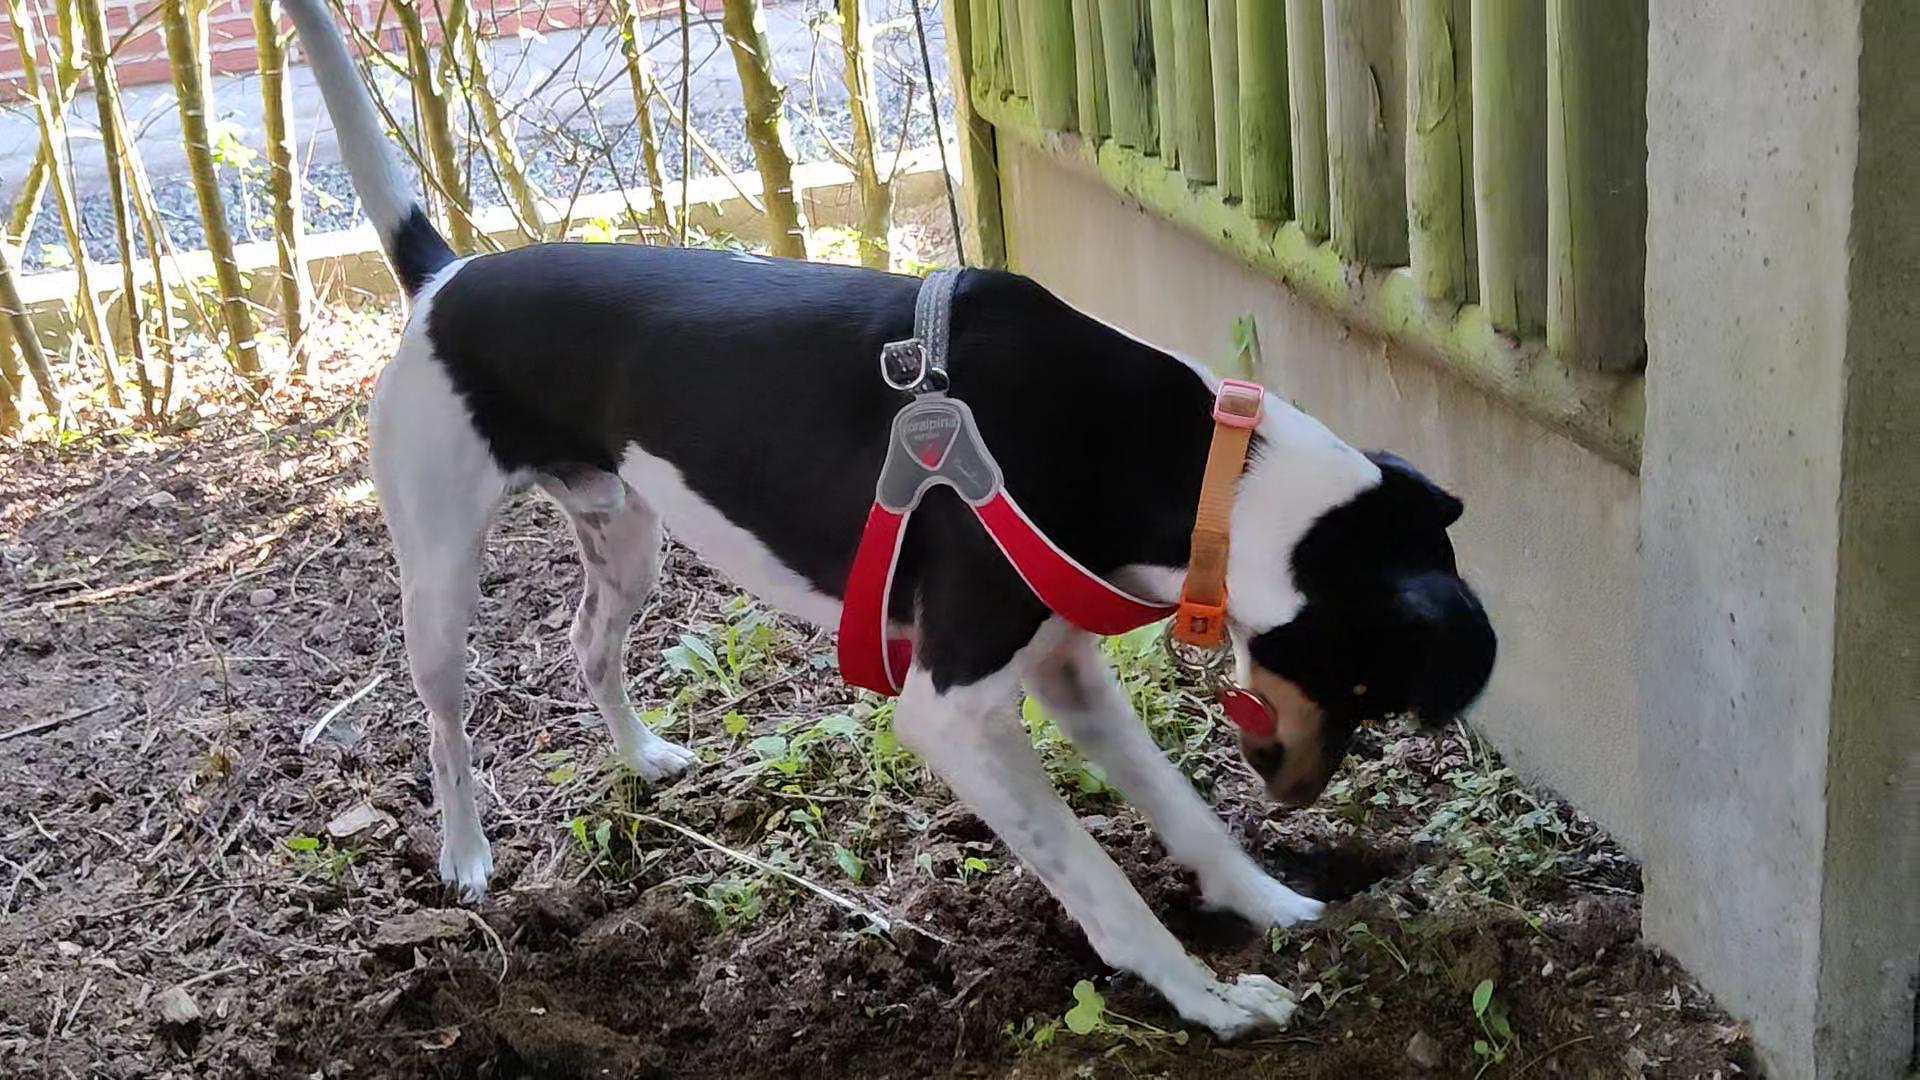Dog: (272, 0, 1513, 1050)
